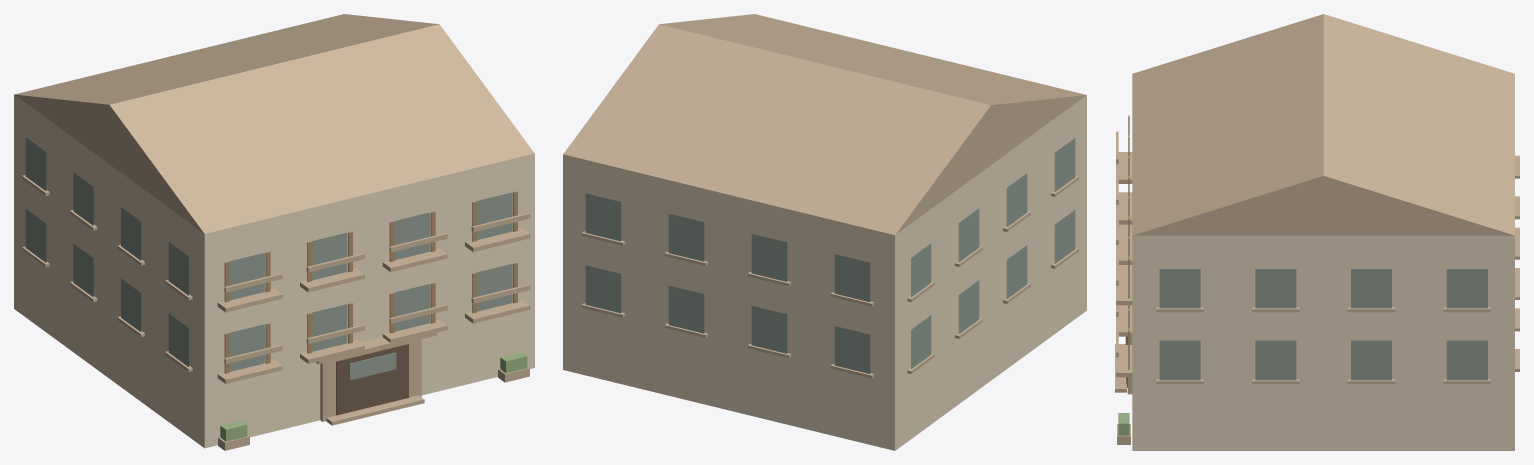
File: residential_2x2_a.glb
The picture shows the model from 3 angles, left to right: view 1: azimuth 30°, elevation 25°; view 2: azimuth 150°, elevation 25°; view 3: azimuth 270°, elevation 25°; orthographic projection.
Visible parts, largest first — view 1: residential_2x2_a_0; view 2: residential_2x2_a_0; view 3: residential_2x2_a_0.
Boxes of the visible parts, x1,y1,x2,y2 form: residential_2x2_a_0: [14, 14, 534, 450]; residential_2x2_a_0: [563, 14, 1086, 450]; residential_2x2_a_0: [1115, 14, 1519, 450].
Size of the model in its own units: 14.86 by 11.5 by 15.33.
